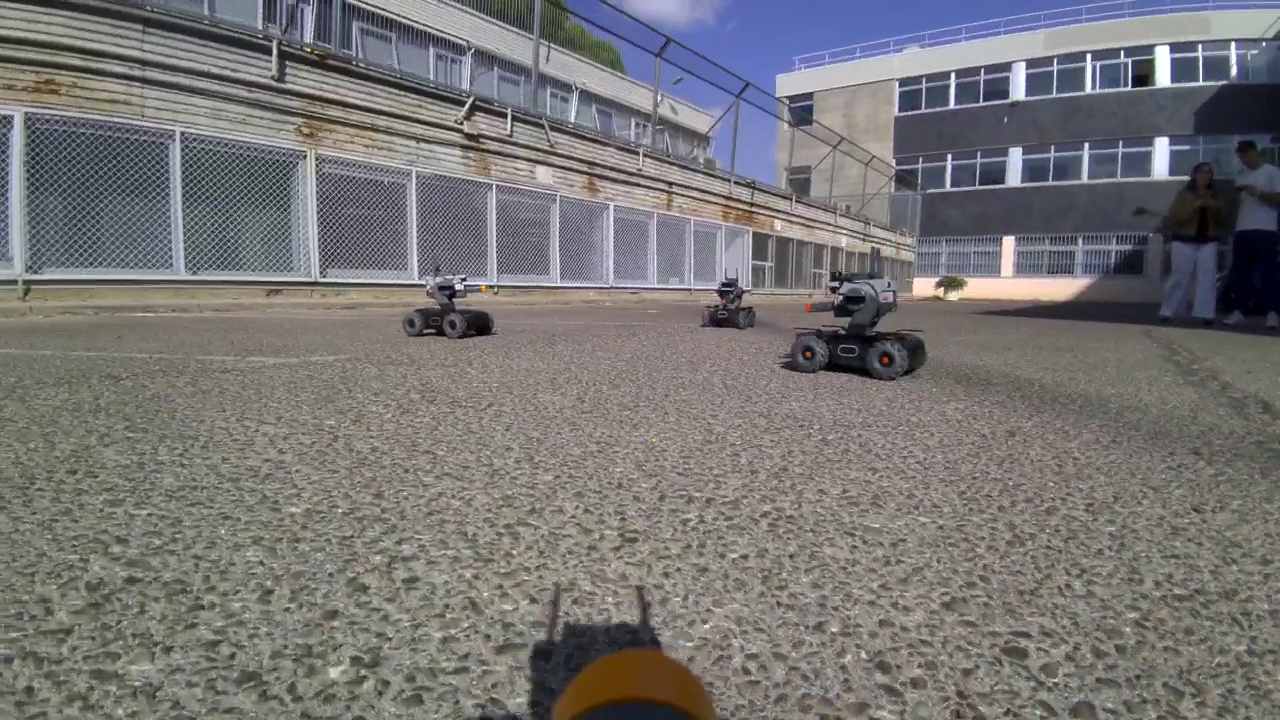robot: (782, 266, 926, 380), (390, 256, 500, 341), (702, 269, 757, 329)
